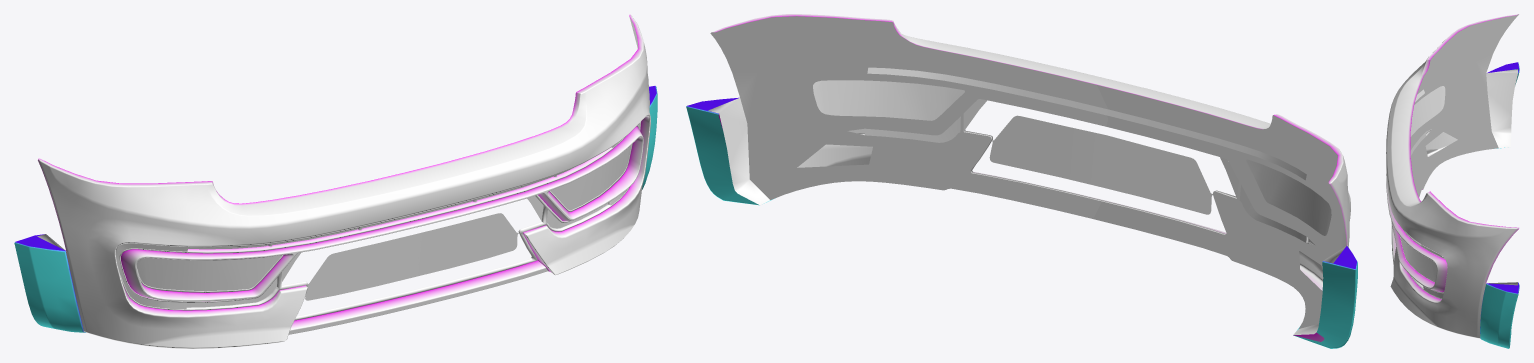
Rendered from Car_Mini_CountrymanJCW_2017_BumperF_SetE_AltD.fbx.
The picture shows the model from 3 angles, left to right: view 1: azimuth 30°, elevation 25°; view 2: azimuth 150°, elevation 25°; view 3: azimuth 270°, elevation 25°; orthographic projection. The views are drawn at different scales.
Visible parts, largest first — view 1: BumperF 6; view 2: BumperF 6; view 3: BumperF 6.
Boxes of the visible parts, <box> form: BumperF 6: <box>14,14,657,348</box>; BumperF 6: <box>686,14,1357,348</box>; BumperF 6: <box>1386,14,1519,348</box>.
Bounding box in the file's own units: 1.89 × 0.4633 × 0.4593.
